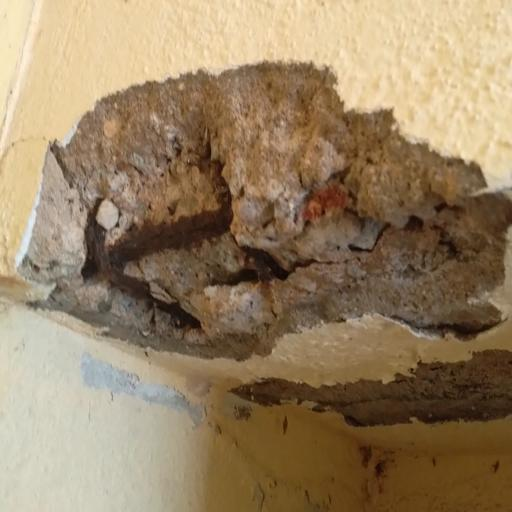spalling: (17, 56, 511, 344), (222, 345, 512, 434)
